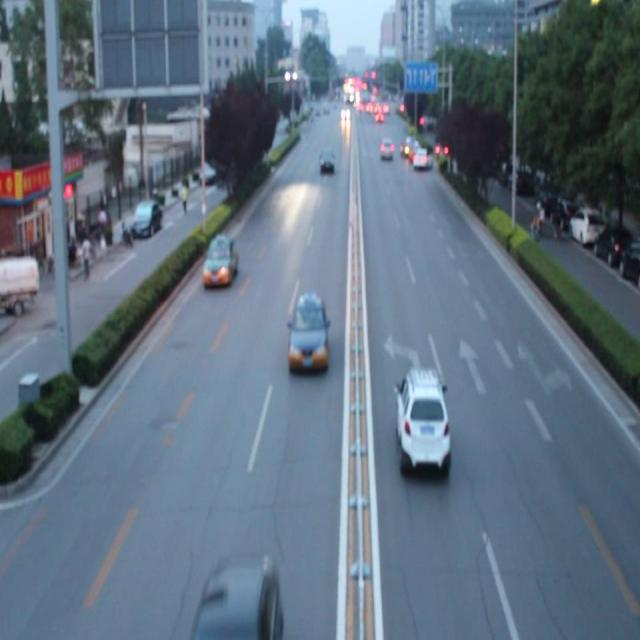car: (394, 364, 449, 476), (287, 292, 329, 374), (203, 233, 238, 288)
